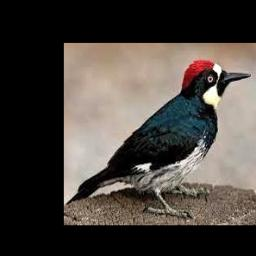Woodpecker: (66, 59, 252, 216)
